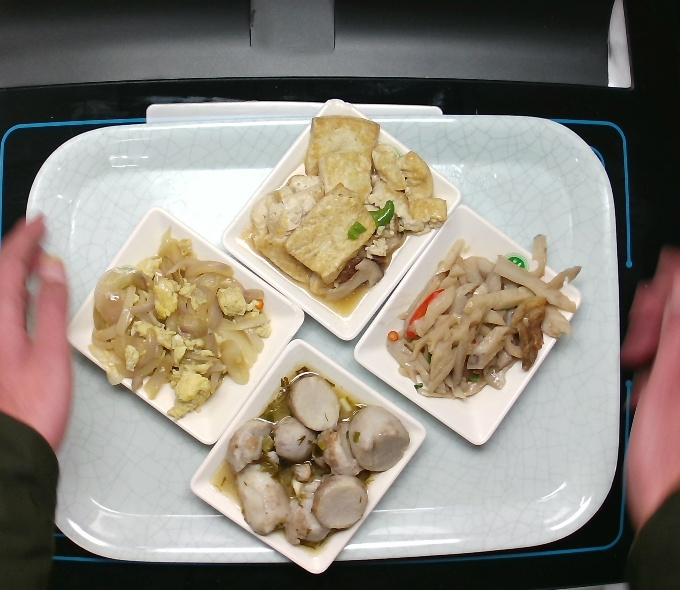wcq-JiaChangDouFu: (245, 111, 456, 307)
wcq-QingChaoOuPian: (381, 227, 588, 408)
wcq-YangCongChaoDan: (83, 224, 279, 425)
wcq-YangYu: (213, 362, 412, 551)
